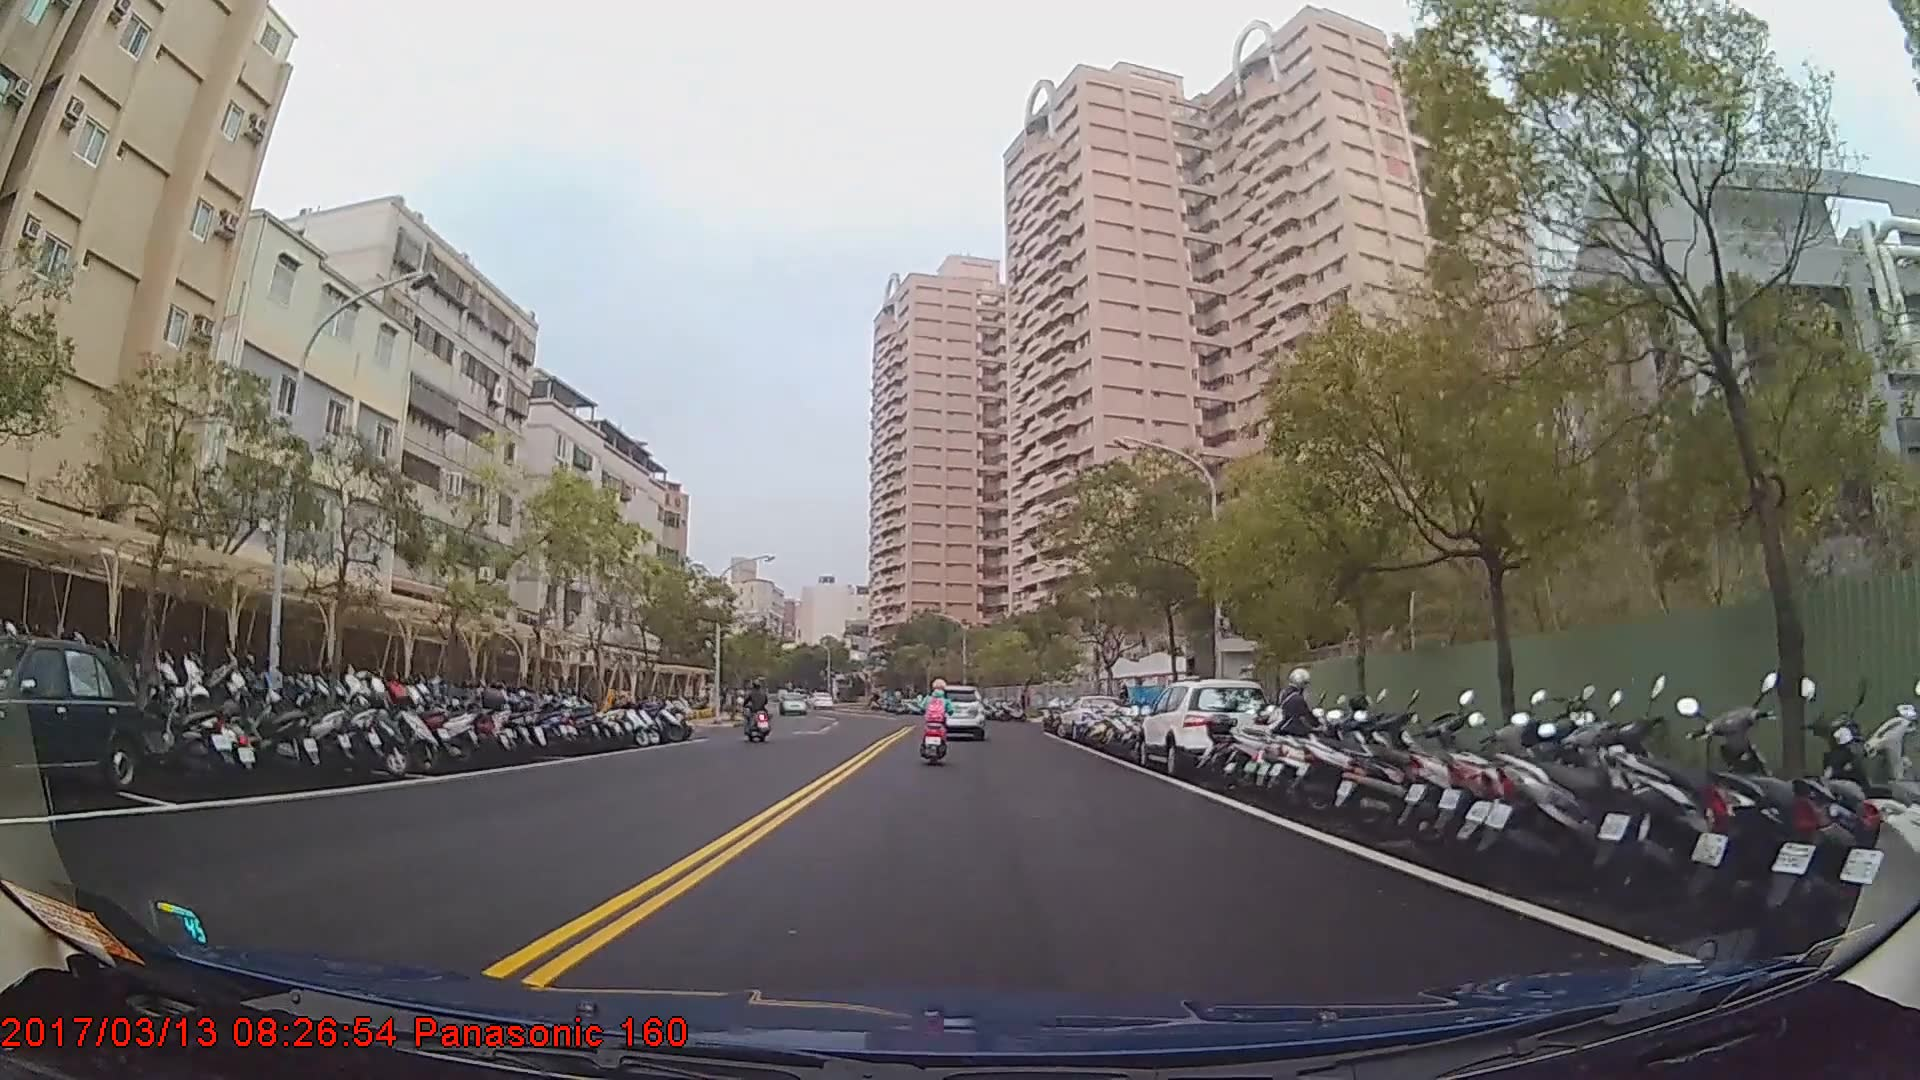rider: (920, 678, 956, 770), (740, 681, 774, 747)
vehicle: (0, 633, 144, 803), (1135, 678, 1271, 777), (927, 684, 985, 740), (776, 691, 808, 714)
